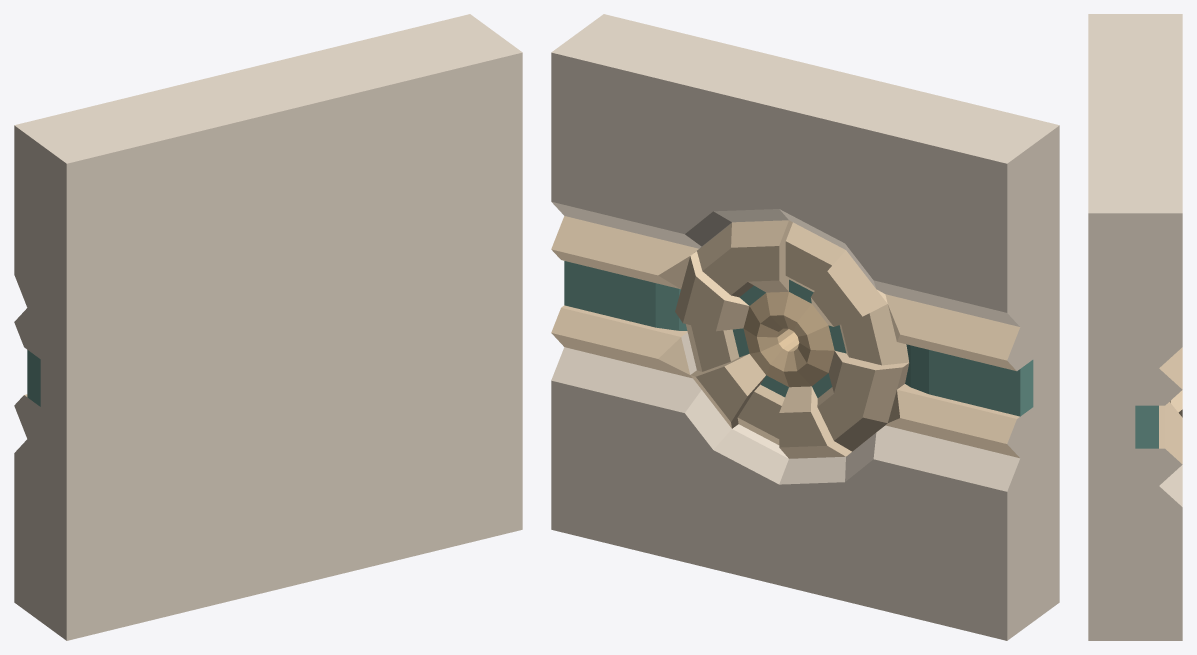
The model's file is Puzzle_Wall_Conduit_Emitter_Straight.glb.
3 renders of one model, left to right at view 1: azimuth 30°, elevation 25°; view 2: azimuth 150°, elevation 25°; view 3: azimuth 270°, elevation 25°, orthographic. The views are drawn at different scales.
Visible parts, largest first — view 1: Puzzle_Wall_Conduit_Emitter_Straight; view 2: Puzzle_Wall_Conduit_Emitter_Straight; view 3: Puzzle_Wall_Conduit_Emitter_Straight.
Boxes of the visible parts, x1,y1,x2,y2 form: Puzzle_Wall_Conduit_Emitter_Straight: (14,14,522,640); Puzzle_Wall_Conduit_Emitter_Straight: (551,14,1059,640); Puzzle_Wall_Conduit_Emitter_Straight: (1088,14,1182,640).
Bounding box in the file's own units: 1 × 1 × 0.2.
